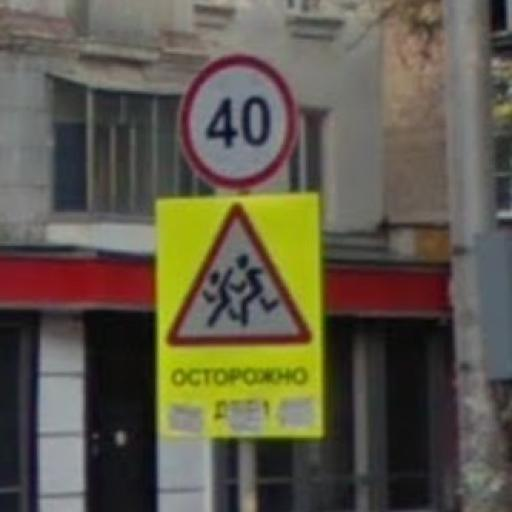traffic_sign: (167, 203, 315, 348), (178, 54, 302, 190)
